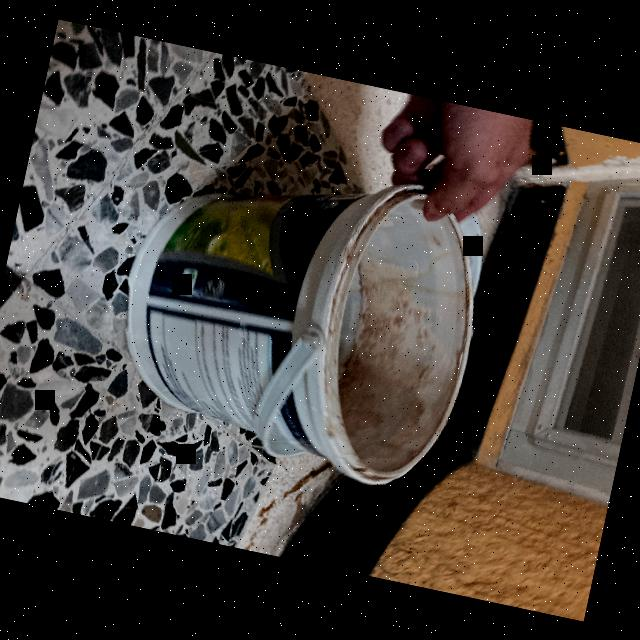paint_bucket: (93, 132, 500, 496)
